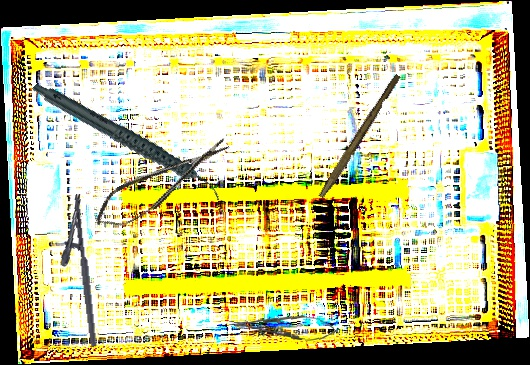Handpiece: (31, 49, 225, 234)
Micro Scissor: (86, 130, 239, 237)
Needle Holder: (53, 193, 98, 350), (228, 310, 340, 343)
Scalpel Handle: (318, 71, 402, 202)
